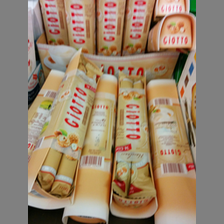chocolate: (39, 60, 96, 203), (147, 79, 195, 224), (116, 74, 152, 207), (63, 1, 95, 53), (124, 1, 154, 55), (96, 1, 122, 57), (38, 1, 68, 45)
